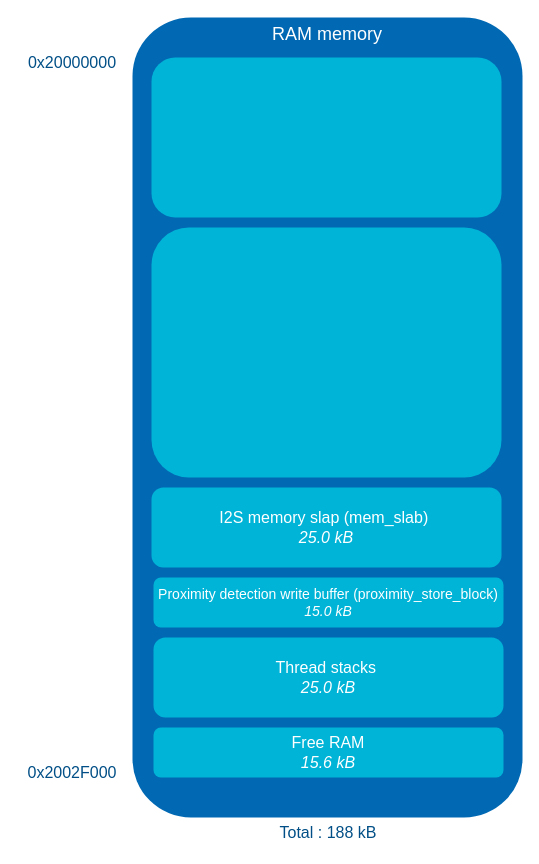
Some shapes in this 539 by 864 pixel diagram are drawn without their labels. The centre of each missing label's shape, as x and y in pixels:
Audio write buffer (store_block) 62.5 kB: the point at 326,352
Static Data & BSS 40.4 kB: the point at 326,137
